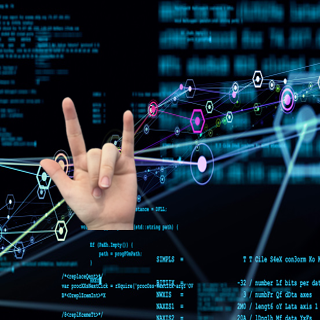ILY: (36, 94, 142, 227)
